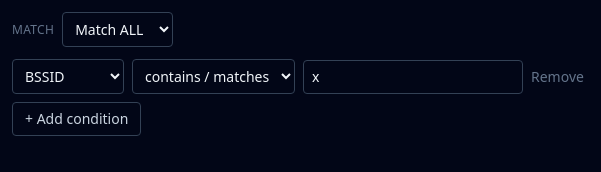
Test: changing the field resets the operator to a valid one for the new field's type
Select "Channel" in the 1st dropdown named "field": x=68, y=76 [12,59,124,94]
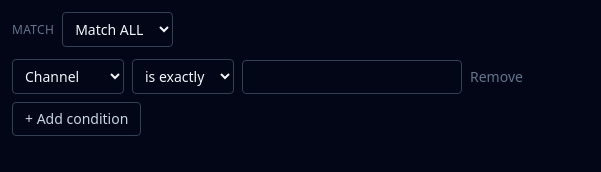
Result: the 2nd dropdown named "operator" shows "is exactly" at [132,59,234,94]
